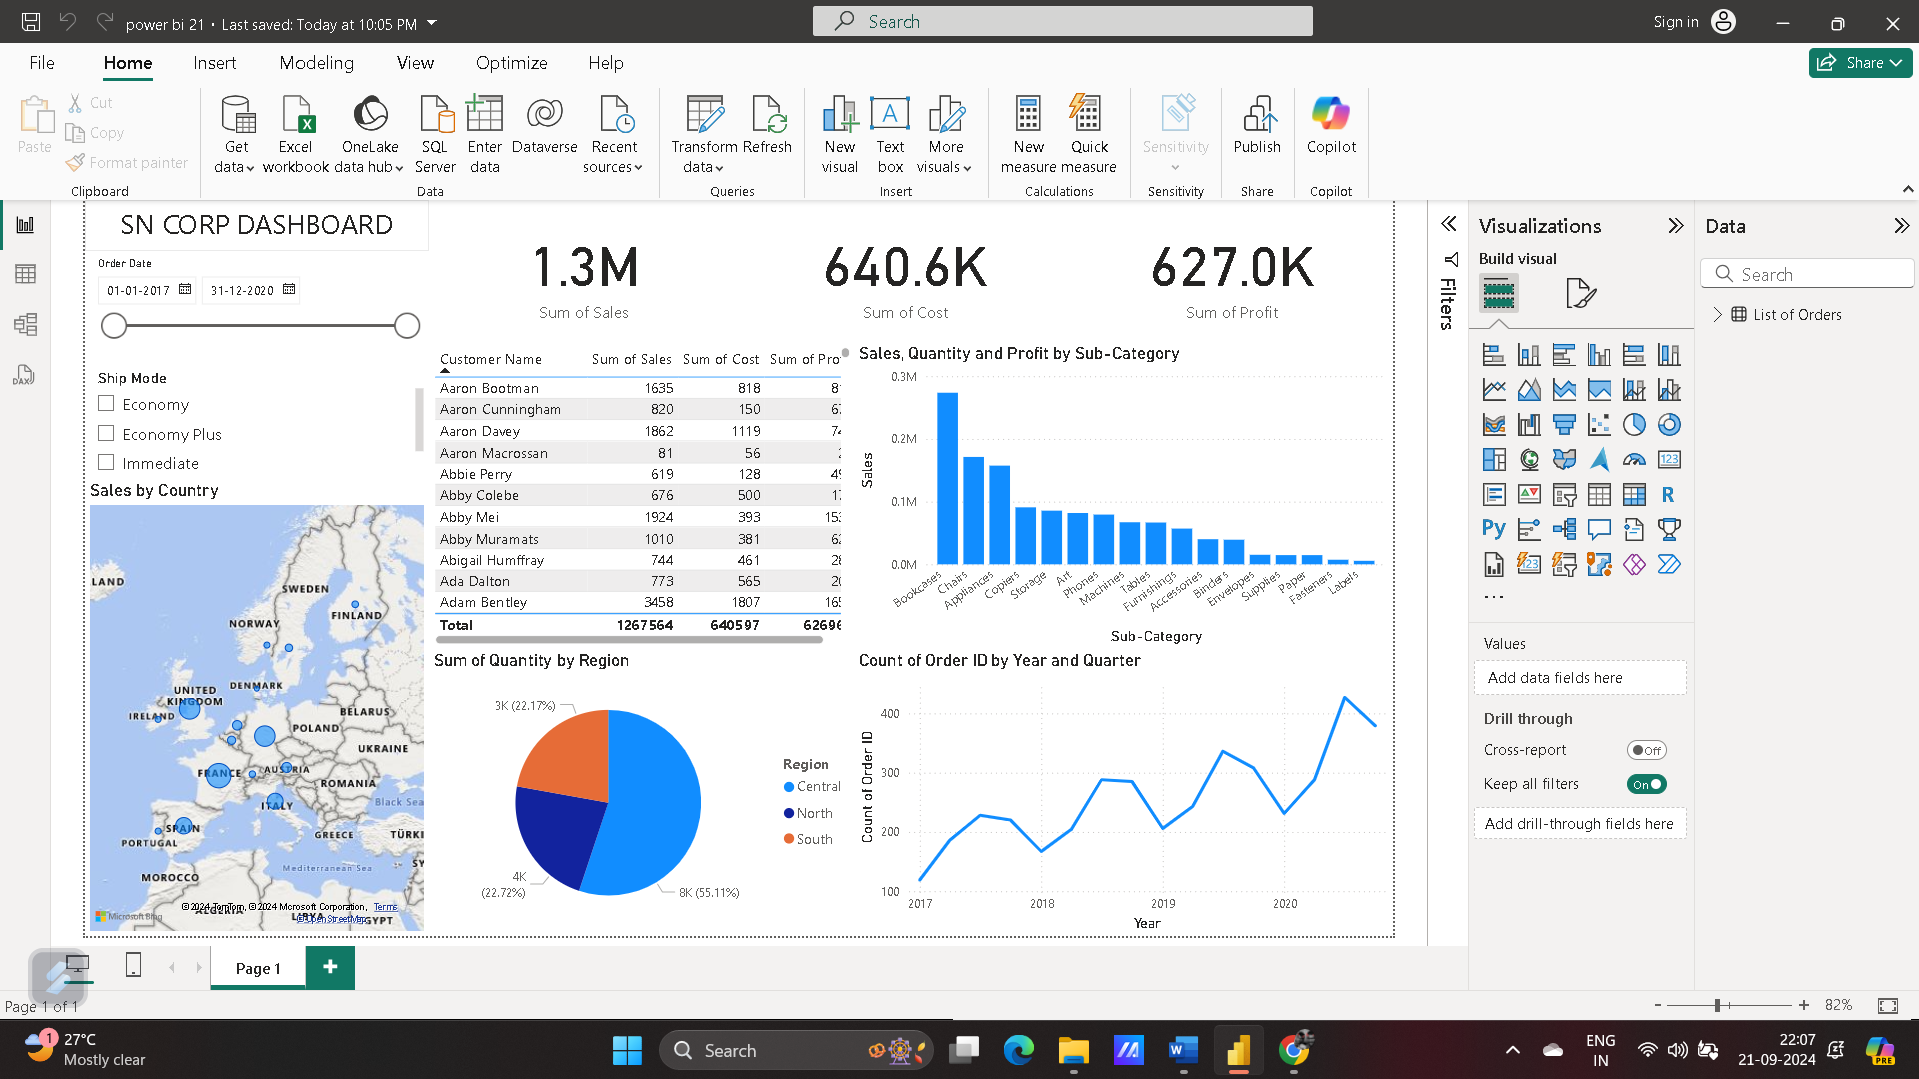

This screenshot's page, from the dashboard's own definition file:
{"tool":"powerbi","page":{"name":"Page 1","canvas":[1280,720],"ordinal":0},"visuals":[{"type":"card","fields":{"Values":["List of Orders.Sales"]},"box":[335.7,0,304.3,140],"z":0},{"type":"card","fields":{"Values":["List of Orders.Cost"]},"box":[640,0,325.7,140],"z":1000},{"type":"card","fields":{"Values":["List of Orders.Profit"]},"box":[965.7,0,312.9,140],"z":2000},{"type":"tableEx","fields":{"Values":["List of Orders.Customer Name","List of Orders.Sales","List of Orders.Cost","List of Orders.Profit"]},"box":[335.7,140,432.9,300],"z":3000},{"type":"clusteredColumnChart","fields":{"Category":["List of Orders.Sub-Category"],"Y":["List of Orders.Sales"]},"box":[752.9,140,525.7,300],"z":4000},{"type":"lineChart","fields":{"Y":["List of Orders.Order ID"],"Category":["List of Orders.Order Date.Variation.Date Hierarchy.Year","List of Orders.Order Date.Variation.Date Hierarchy.Quarter"]},"box":[752.9,440,527.1,280],"z":5000},{"type":"pieChart","fields":{"Category":["List of Orders.Region"],"Y":["List of Orders.Quantity"]},"box":[335.7,440,415.7,280],"z":6000},{"type":"map","fields":{"Category":["List of Orders.Country"],"Size":["List of Orders.Sales"]},"box":[0,274.3,335.7,445.7],"z":7000},{"type":"textbox","box":[0,0,336.2,50],"z":8000},{"type":"slicer","fields":{"Values":["List of Orders.Ship Mode"]},"box":[0,160,336.2,113.8],"z":9000},{"type":"slicer","fields":{"Values":["List of Orders.Order Date"]},"box":[0,50,336.2,110],"z":10000}]}

Visuals, with their boxes on the page's 1280x720 design canvas (x1, y1, x2, y2). These are canvas units, not pixel positions in the 1919x1079 screenshot, which may show the page scaled, cropped or inside an application window:
card - List of Orders.Sales: 336/0/640/140
card - List of Orders.Cost: 640/0/966/140
card - List of Orders.Profit: 966/0/1279/140
tableEx - List of Orders.Customer Name x List of Orders.Sales: 336/140/769/440
clusteredColumnChart - List of Orders.Sub-Category x List of Orders.Sales: 753/140/1279/440
lineChart - List of Orders.Order ID x List of Orders.Order Date.Variation.Date Hierarchy.Year: 753/440/1280/720
pieChart - List of Orders.Region x List of Orders.Quantity: 336/440/751/720
map - List of Orders.Country x List of Orders.Sales: 0/274/336/720
textbox: 0/0/336/50
slicer - List of Orders.Ship Mode: 0/160/336/274
slicer - List of Orders.Order Date: 0/50/336/160
